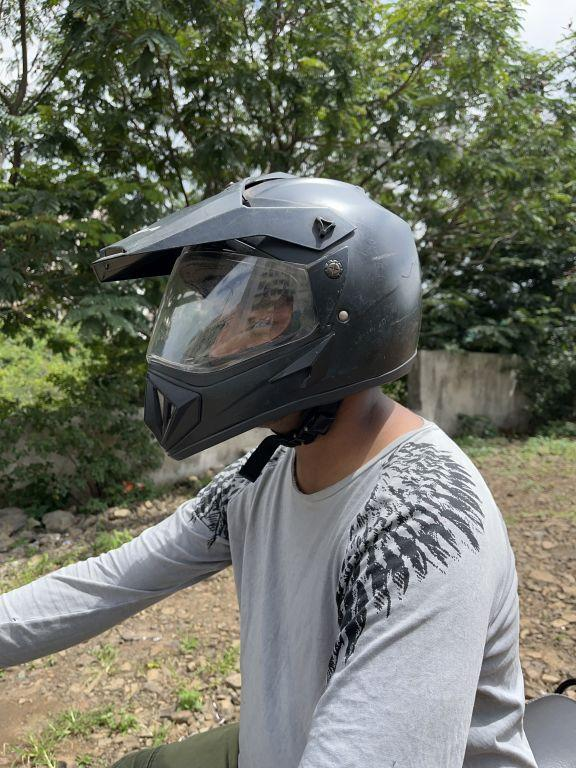helmet: (72, 155, 424, 467)
